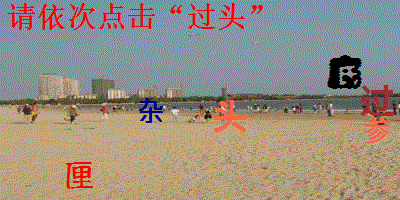result: (186, 1, 249, 32)
text: (210, 97, 249, 135), (325, 53, 364, 91), (359, 81, 397, 119), (61, 159, 96, 191), (362, 116, 392, 145), (135, 97, 164, 125)
